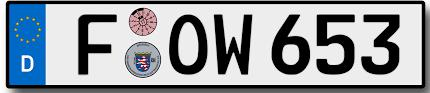3: (361, 12, 402, 76)
5: (314, 11, 358, 76)
6: (269, 10, 313, 77)
F: (74, 11, 119, 78)
O: (164, 9, 211, 78)
W: (212, 9, 255, 77)
